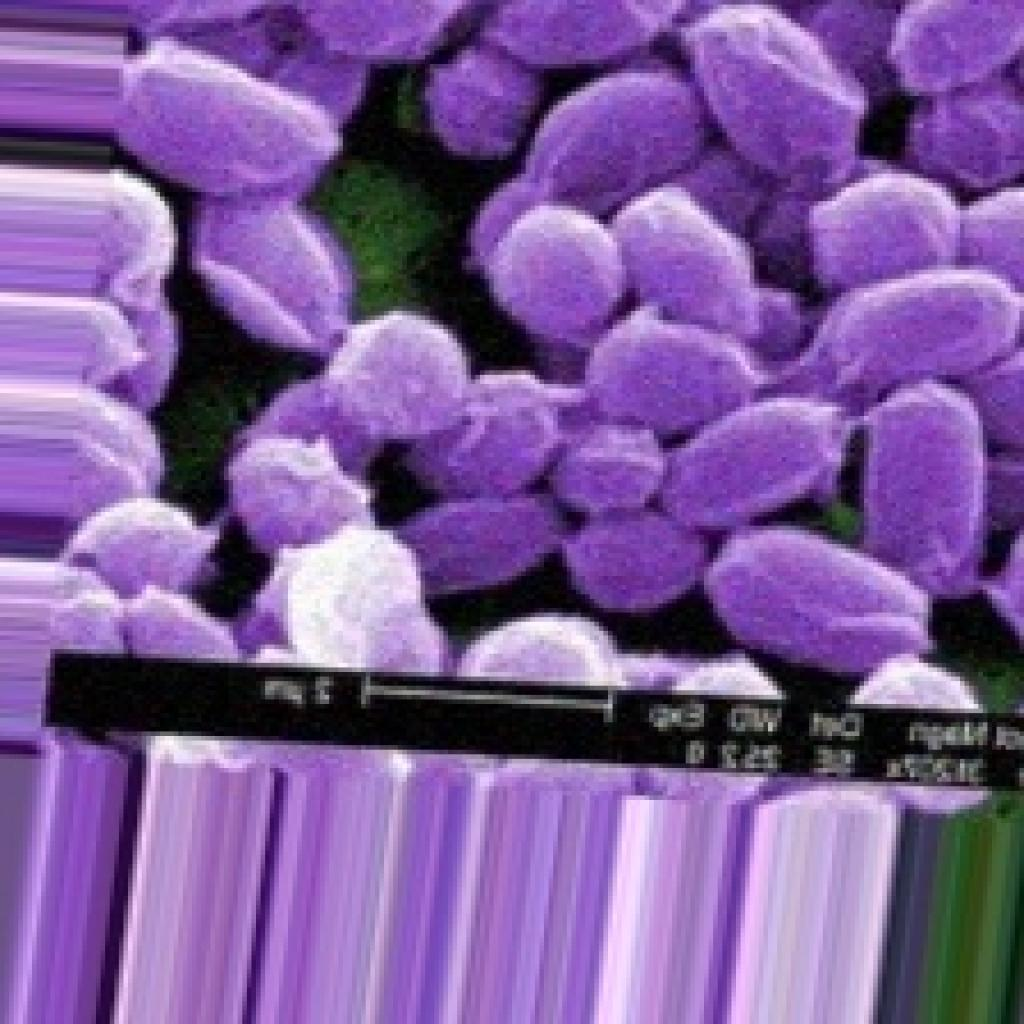Rodbacteria: (18, 0, 1020, 718)
